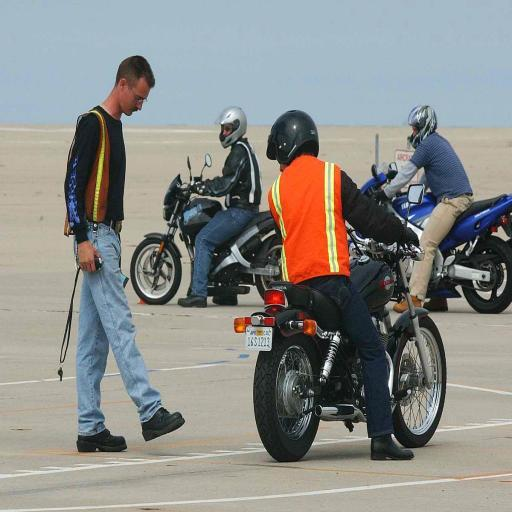helmet: (260, 100, 408, 444), (374, 85, 512, 322), (178, 97, 276, 318)
